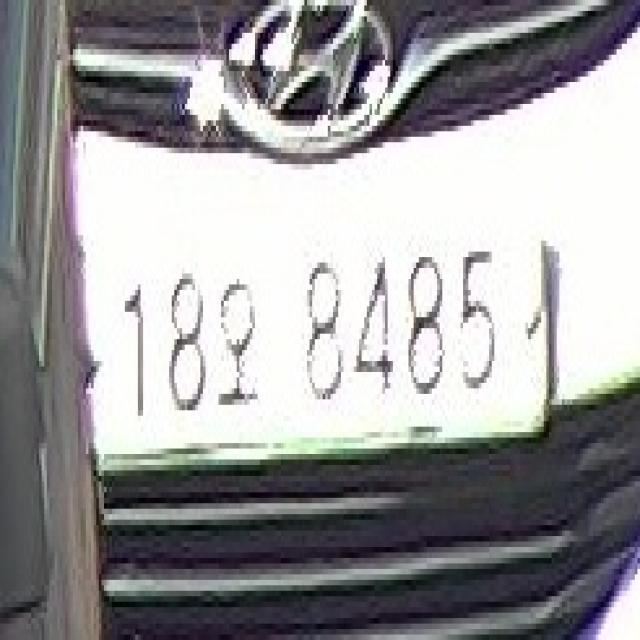1: (117, 268, 156, 432)
4: (349, 252, 398, 416)
5: (452, 240, 504, 404)
8: (396, 246, 450, 416), (164, 257, 211, 432), (297, 252, 346, 416)
license_plate: (76, 208, 560, 492)
o: (210, 268, 262, 421)
